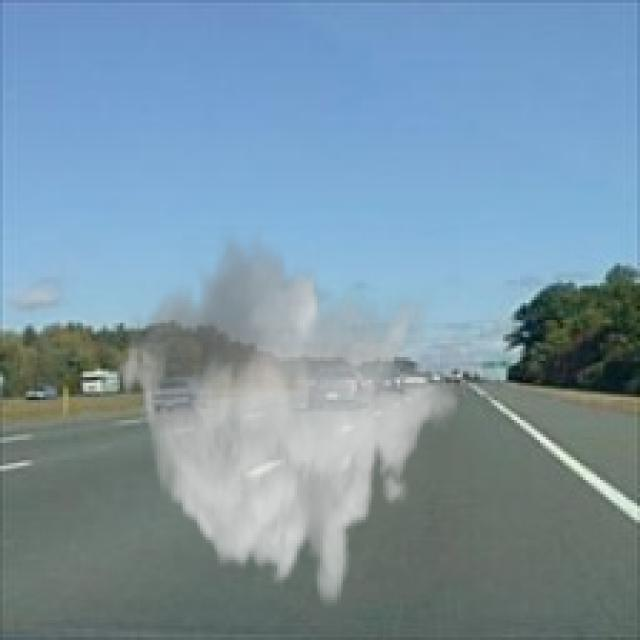Smoke: (114, 226, 460, 608)
